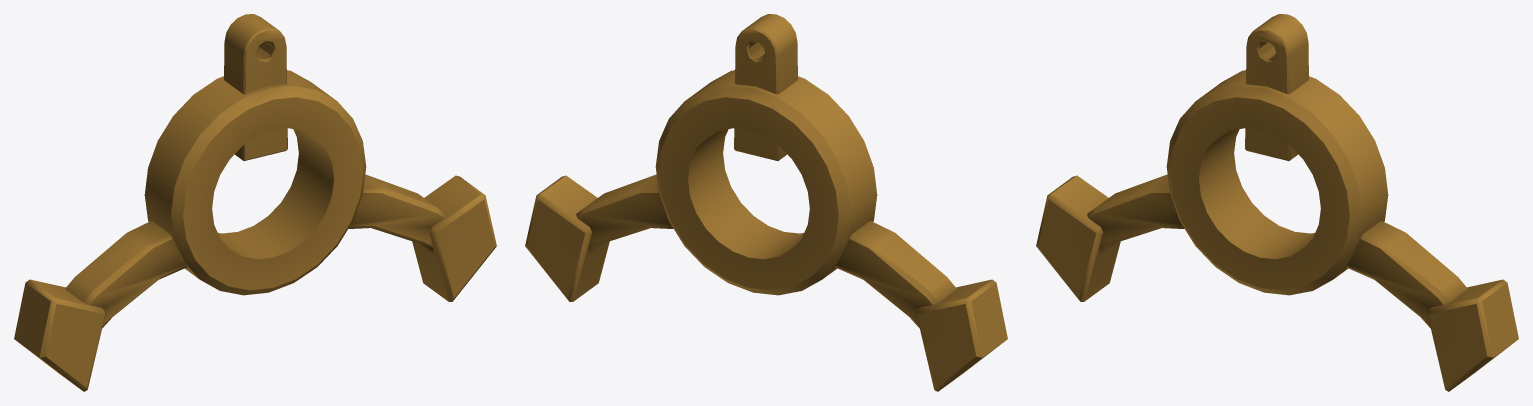
File: escapement_anchor.glb
3 views of the same model, side by side, from view 1: azimuth 30°, elevation 25°; view 2: azimuth 150°, elevation 25°; view 3: azimuth 330°, elevation 25° (orthographic).
Parts seen in each view (by area): view 1: EscapementAnchor; view 2: EscapementAnchor; view 3: EscapementAnchor.
Boxes of the visible parts, x1,y1,x2,y2 form: EscapementAnchor: [14, 14, 496, 391]; EscapementAnchor: [525, 14, 1007, 391]; EscapementAnchor: [1036, 14, 1518, 391].
Bounding box in the file's own units: 0.03 × 0.0198 × 0.004.
